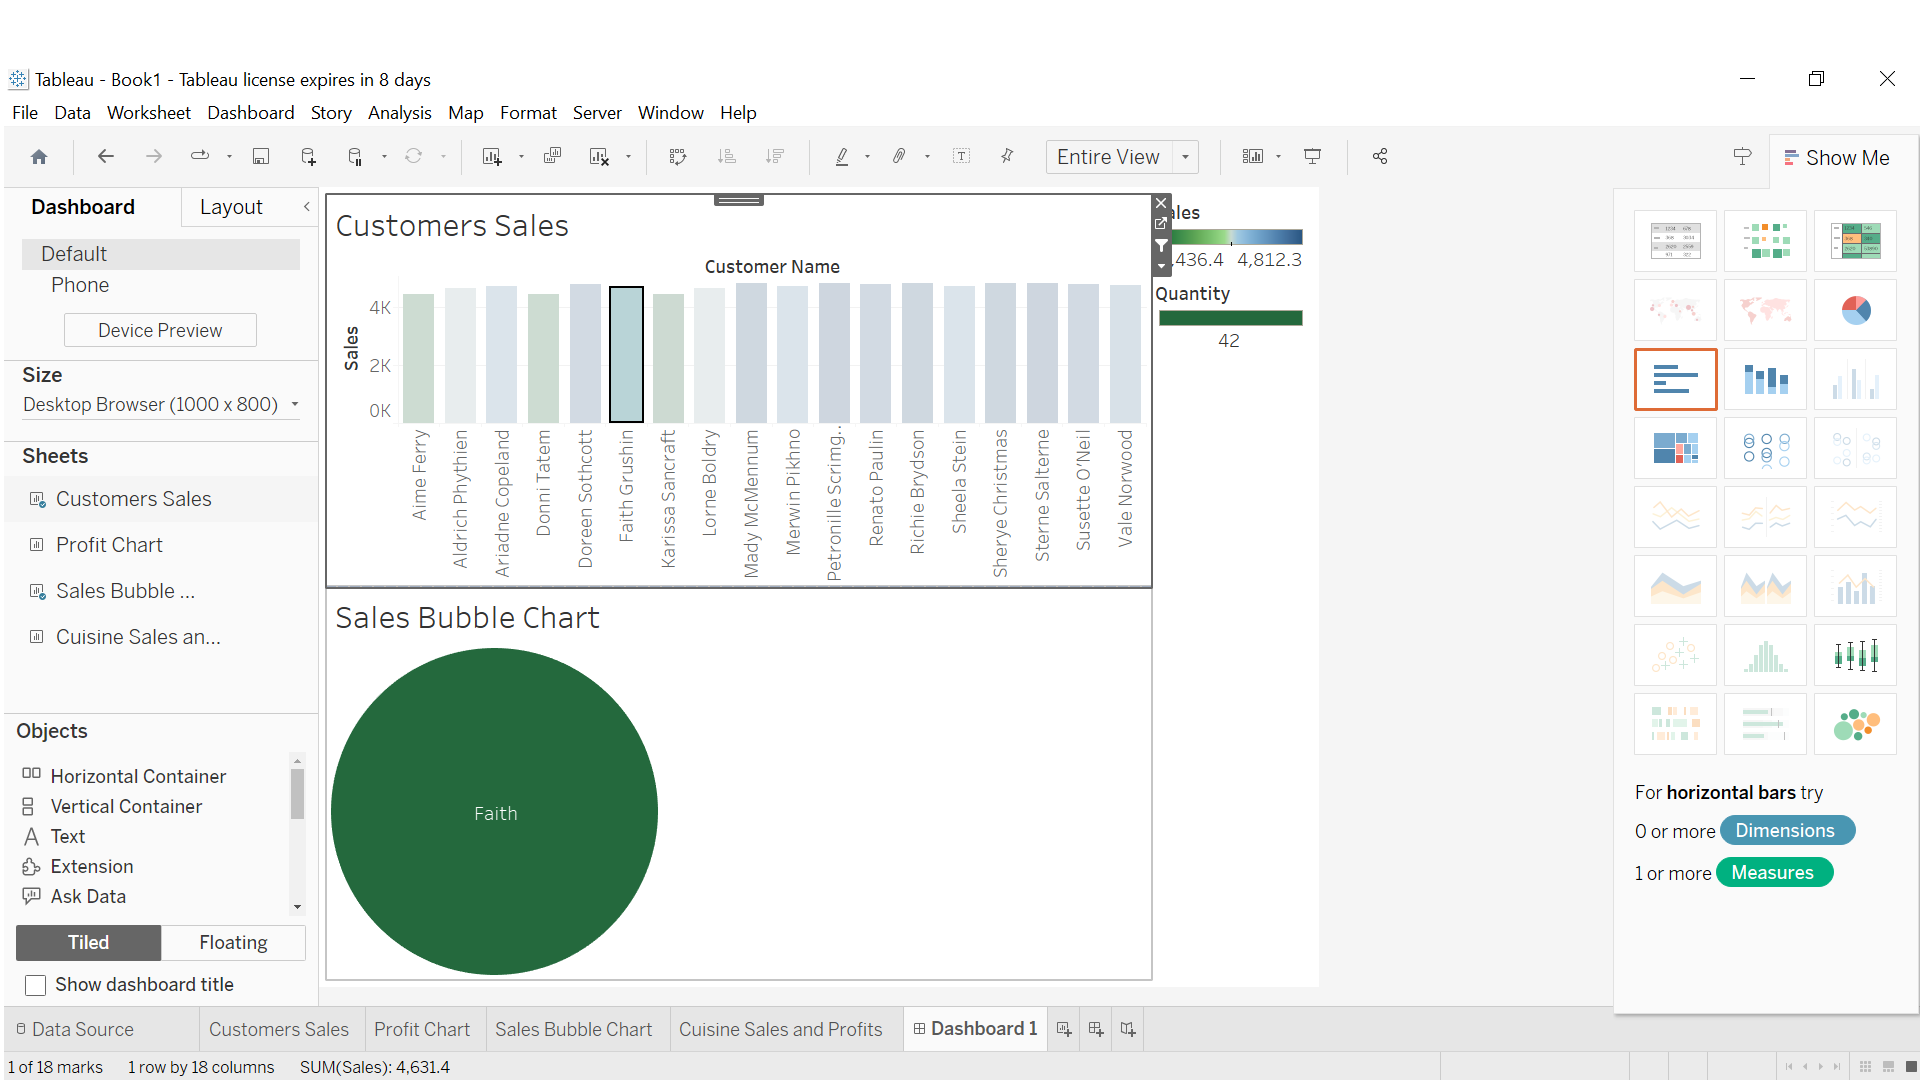

The dashboard page shown, as its layout file describes it:
{"tool":"tableau","page":{"name":"Dashboard 1","canvas":[1000,800],"ordinal":0},"visuals":[{"type":"worksheet","title":"Customers Sales","mark":"Automatic","rows":["Sales"],"cols":["Customer Name"],"box":[8,8,824,392]},{"type":"legend","title":"Customers Sales","param":"[federated.1qhjy1j1oszfgx111lthl0e2jafy].[sum:Sales:qk]","box":[832,8,160,81]},{"type":"legend","title":"Sales Bubble Chart","param":"[federated.1qhjy1j1oszfgx111lthl0e2jafy].[sum:Quantity:qk]","box":[832,89,160,81]},{"type":"worksheet","title":"Sales Bubble Chart","mark":"Circle","box":[8,400,824,392]}]}

Visuals, with their boxes on the page's 1000x800 design canvas (x1, y1, x2, y2). These are canvas units, not pixel positions in the 1920x1080 screenshot, which may show the page scaled, cropped or inside an application window:
"Customers Sales" worksheet: 8/8/832/400
"Customers Sales" legend: 832/8/992/89
"Sales Bubble Chart" legend: 832/89/992/170
"Sales Bubble Chart" worksheet (Circle marks): 8/400/832/792
